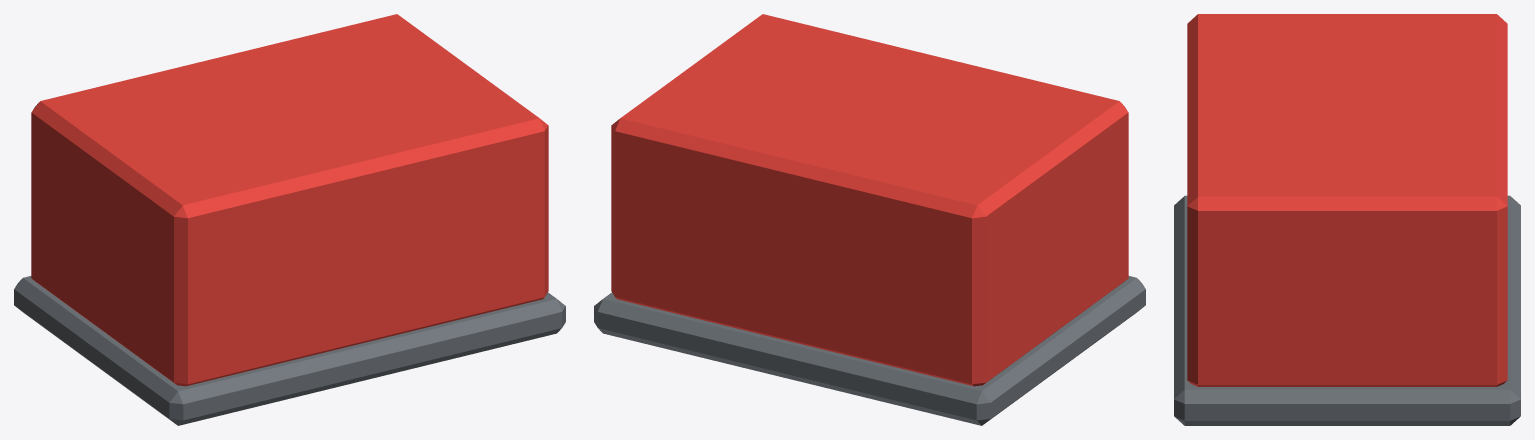
Rendered from delivery_cart.glb.
The picture shows the model from 3 angles, left to right: view 1: azimuth 30°, elevation 25°; view 2: azimuth 150°, elevation 25°; view 3: azimuth 270°, elevation 25°; orthographic projection. The views are drawn at different scales.
Visible parts, largest first — view 1: delivery_cart; view 2: delivery_cart; view 3: delivery_cart.
Boxes of the visible parts, bbox=[...] form: delivery_cart: bbox=[14, 14, 565, 425]; delivery_cart: bbox=[594, 14, 1145, 425]; delivery_cart: bbox=[1174, 14, 1520, 425].
Bounding box in the file's own units: 0.36 × 0.185 × 0.26.
